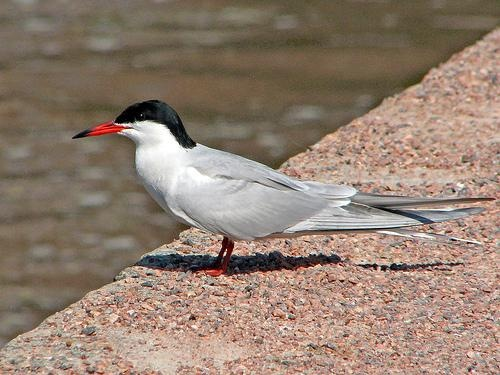bird: (69, 98, 489, 273)
